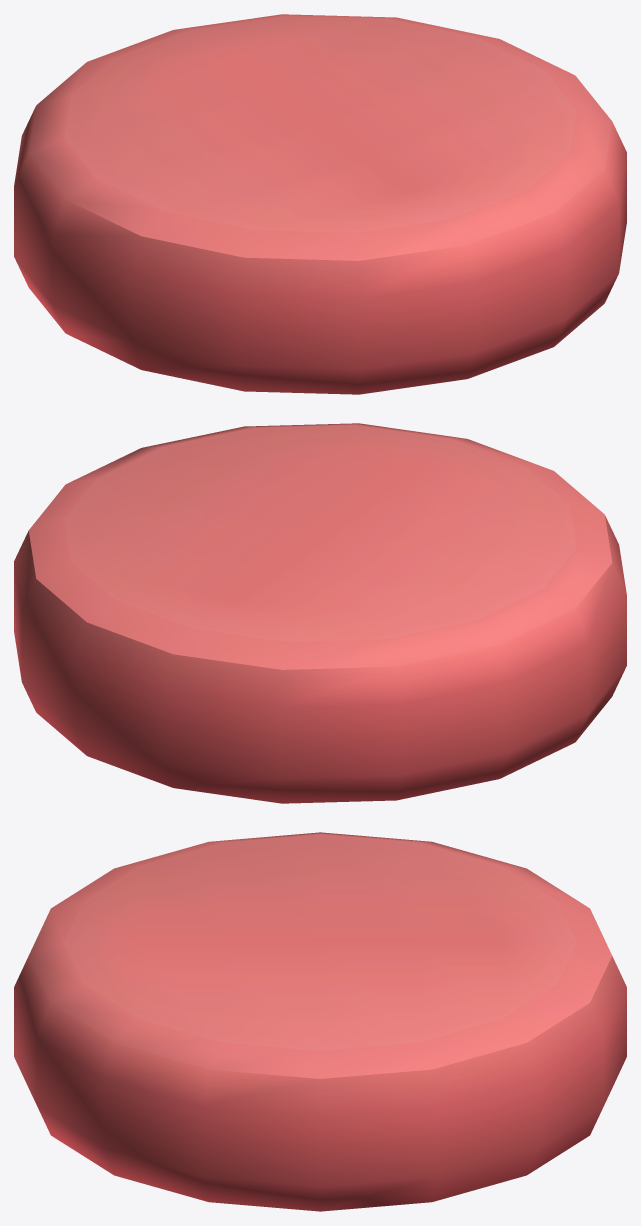
The model's file is food-ingredient-burger-uncooked.glb.
The picture shows the model from 3 angles, top to bottom: view 1: azimuth 30°, elevation 25°; view 2: azimuth 150°, elevation 25°; view 3: azimuth 270°, elevation 25°; orthographic projection.
Parts seen in each view (by area): view 1: food_ingredient_burger_uncooked; view 2: food_ingredient_burger_uncooked; view 3: food_ingredient_burger_uncooked.
Part boxes in pixels (x1=…): food_ingredient_burger_uncooked: x1=14, y1=14, x2=626, y2=394; food_ingredient_burger_uncooked: x1=14, y1=423, x2=626, y2=803; food_ingredient_burger_uncooked: x1=14, y1=832, x2=626, y2=1211.
Size of the model in its own units: 0.7 by 0.2 by 0.7.
Materials: 1 (1 with a texture image).
